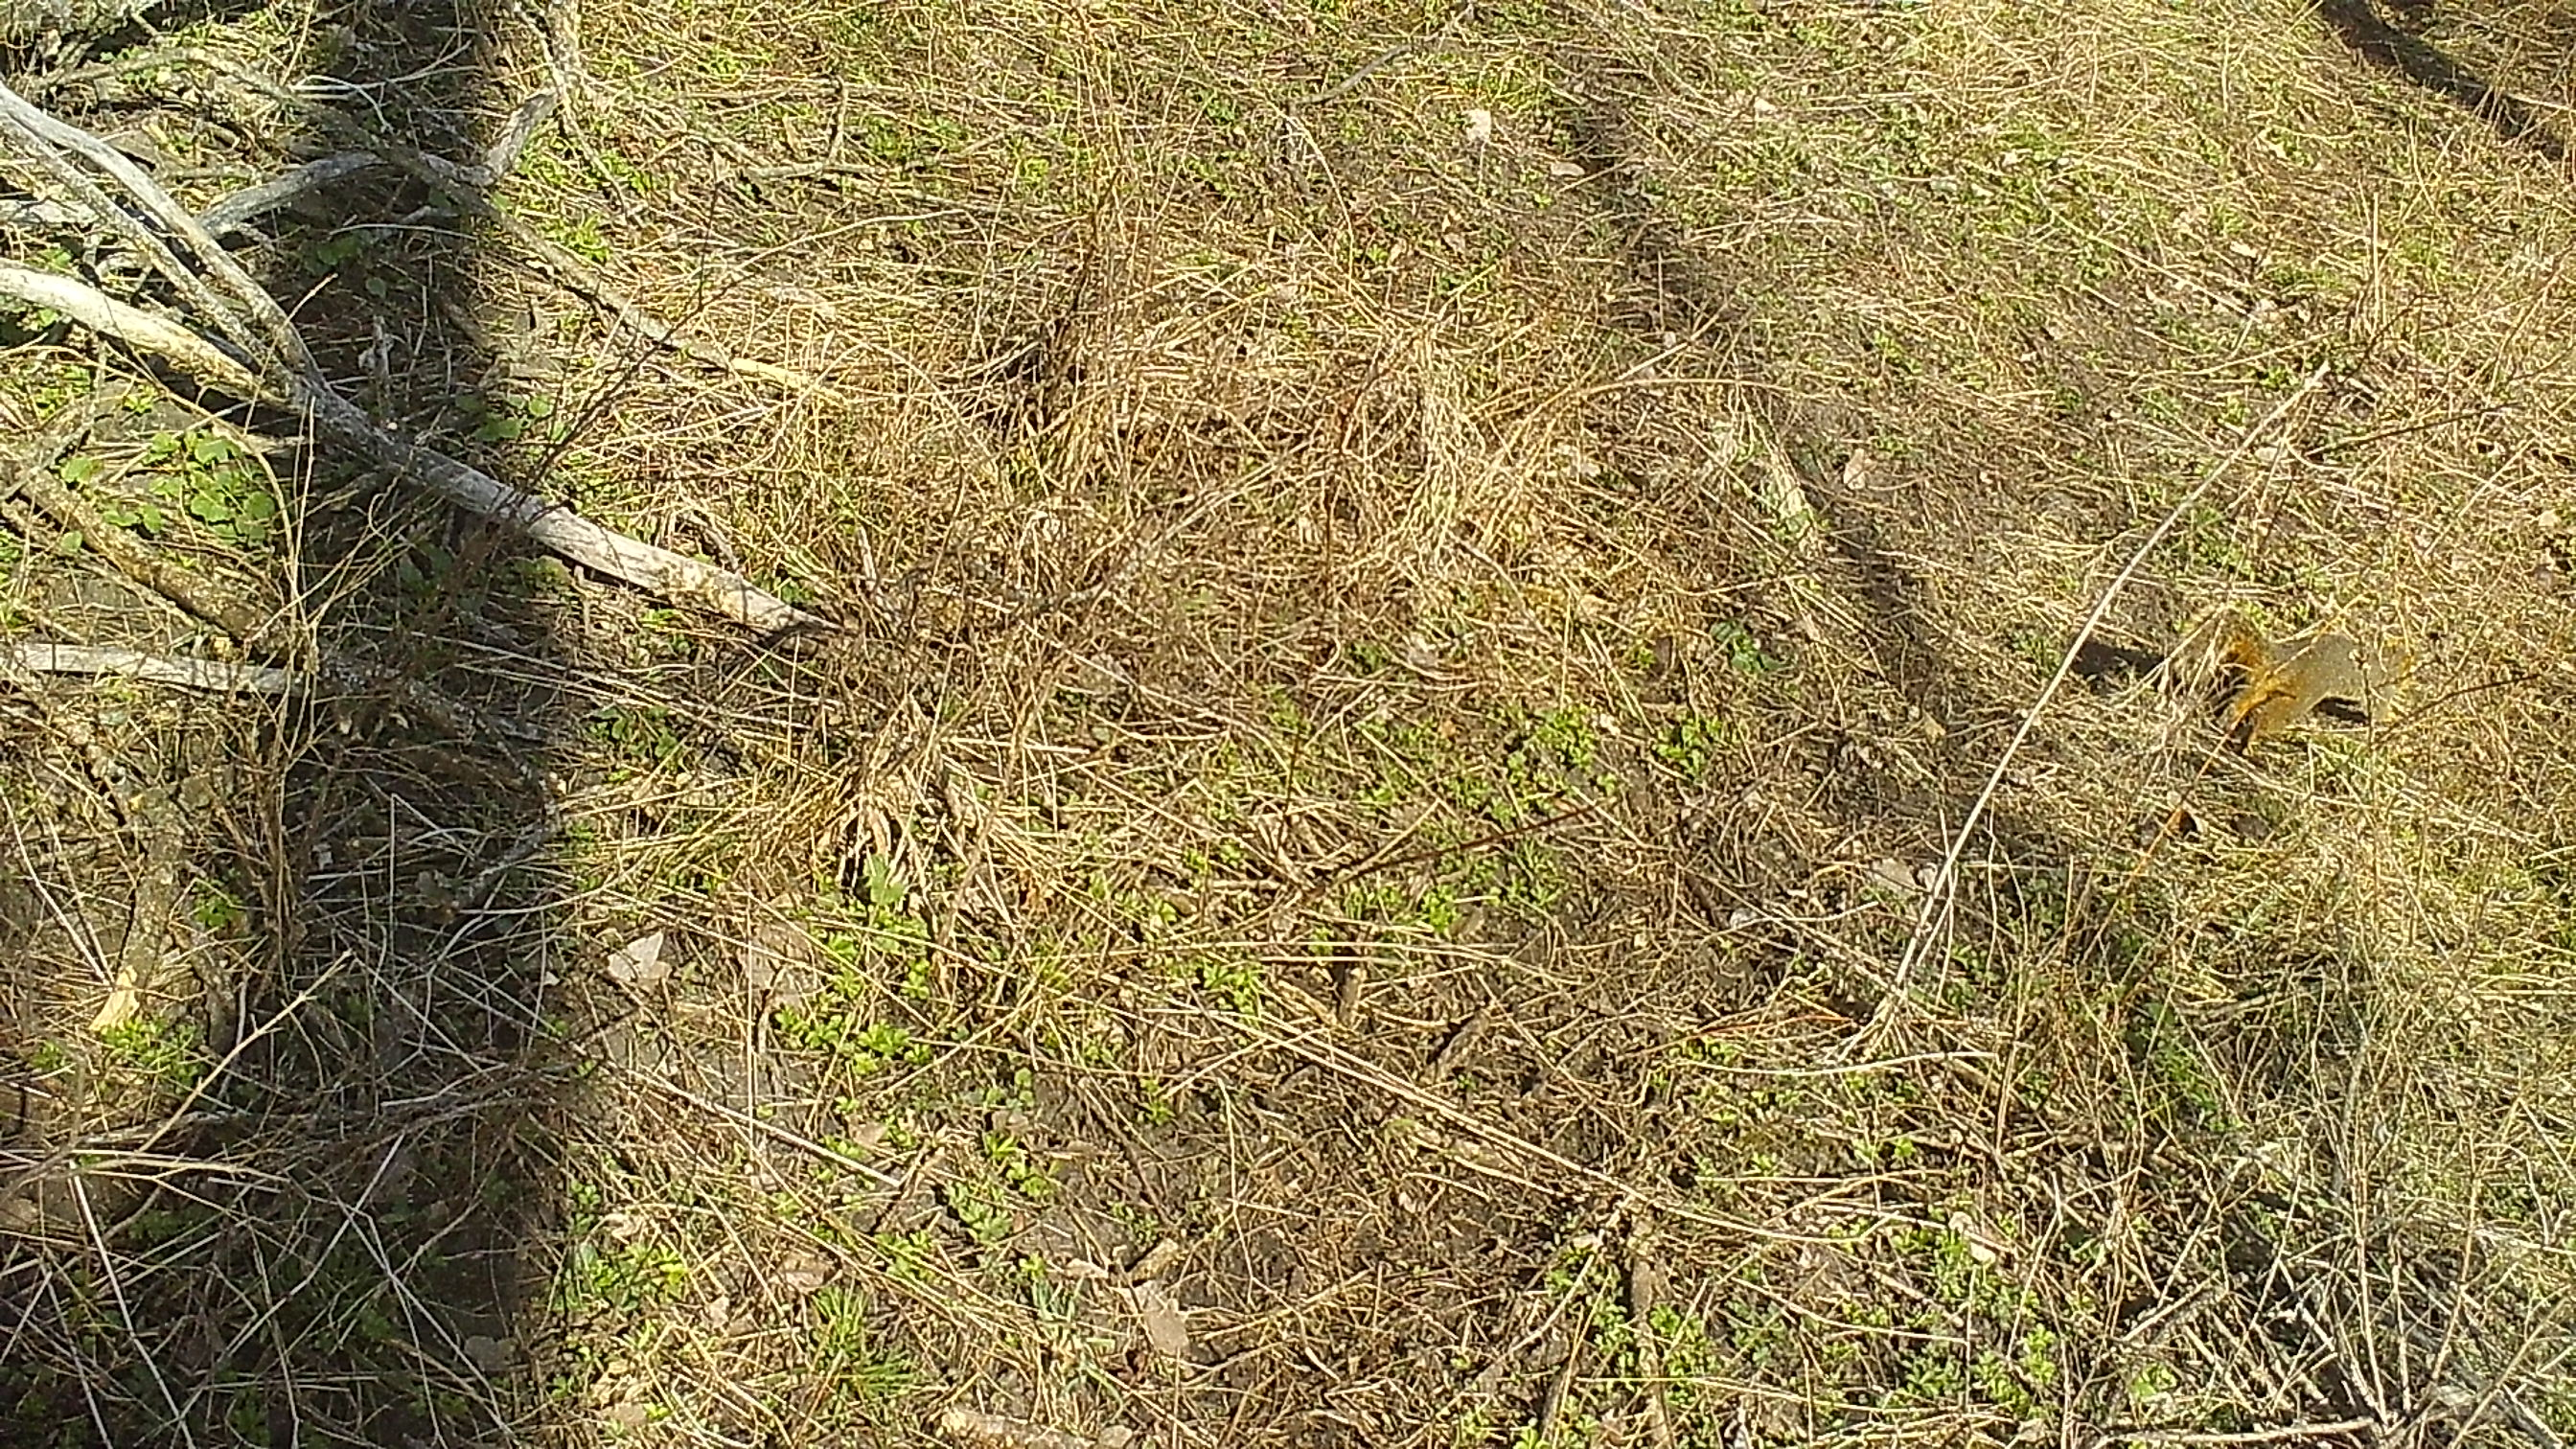Squirrel: (2192, 605, 2422, 740)
